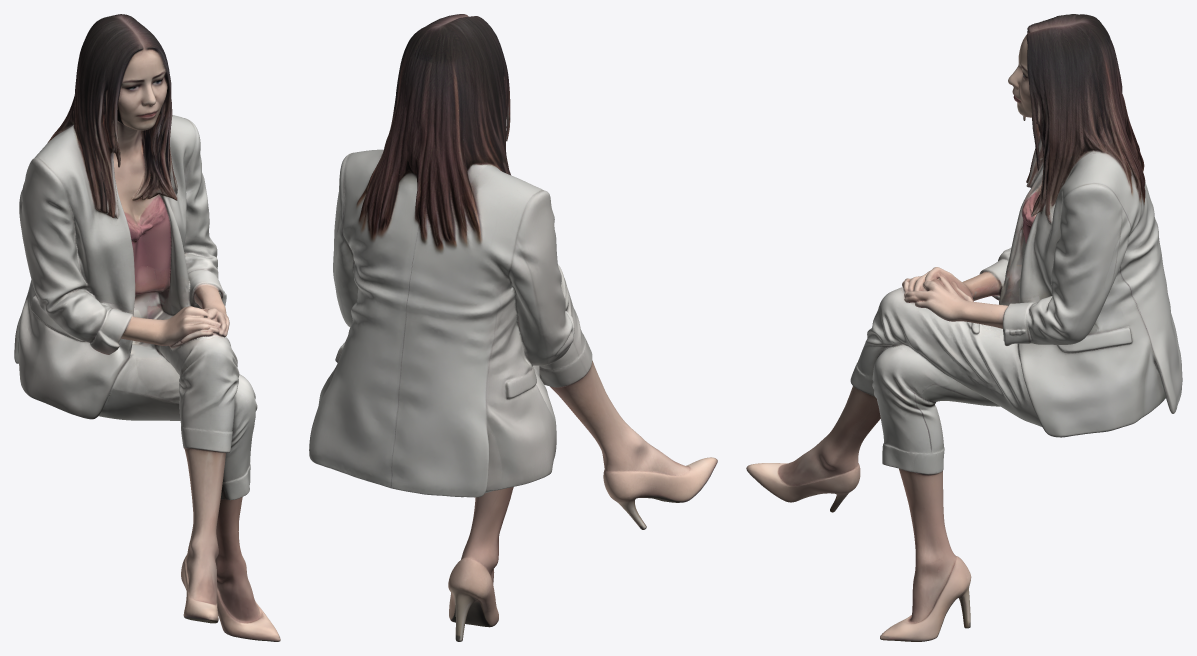
The model's file is Meshy_AI_Executive_in_Beige_Su_0708125732_texture-442591fd.glb.
The picture shows the model from 3 angles, left to right: view 1: azimuth 30°, elevation 25°; view 2: azimuth 150°, elevation 25°; view 3: azimuth 270°, elevation 25°; orthographic projection. The views are drawn at different scales.
Bounding box in the file's own units: 0.6373 × 1.9 × 1.28.
1 material, 1 textured.
